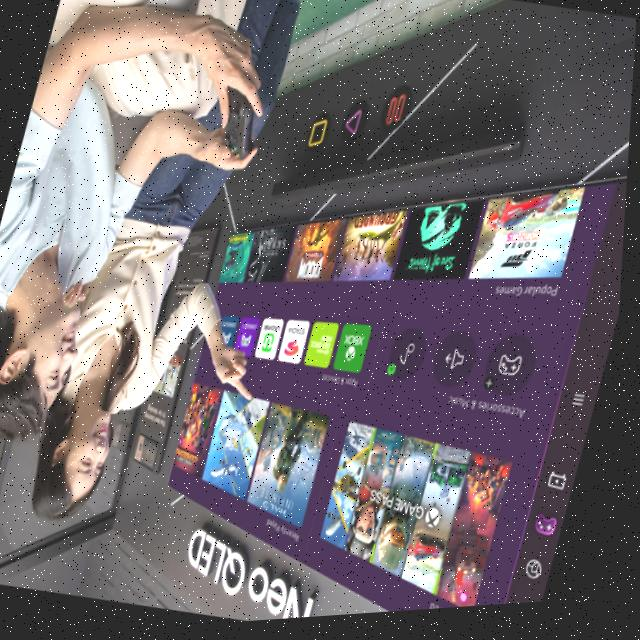tv-person: (0, 0, 640, 640), (15, 0, 640, 638), (17, 0, 640, 638)
